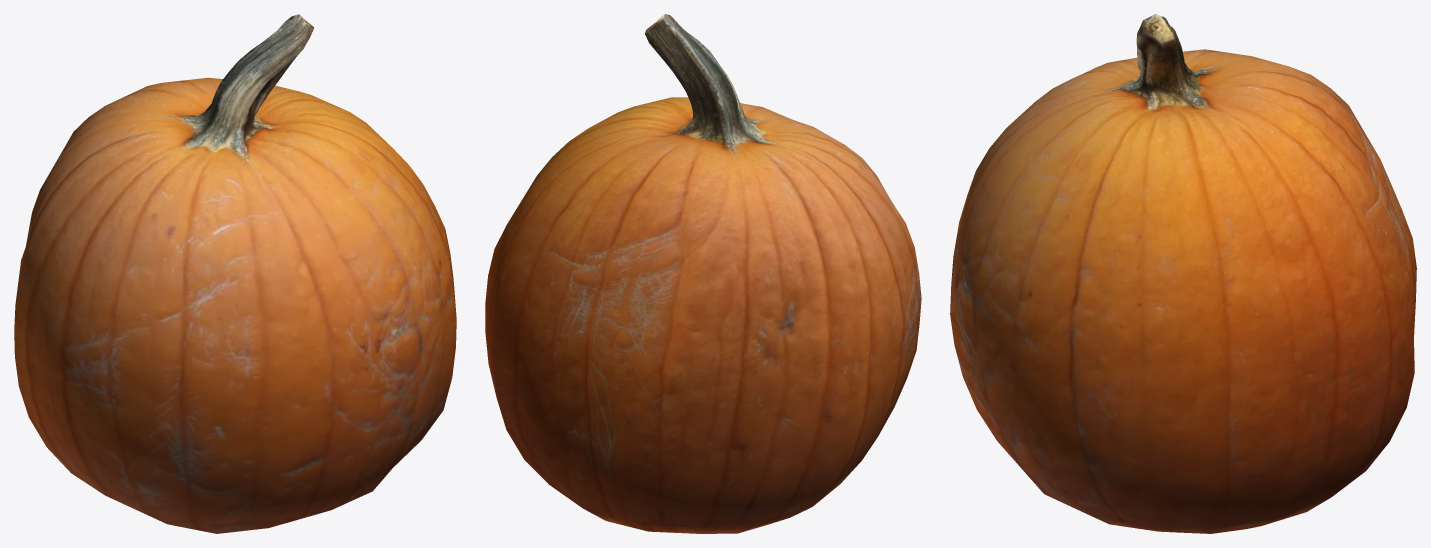
The model's file is realpumpkin.glb.
3 views of the same model, side by side, from view 1: azimuth 30°, elevation 25°; view 2: azimuth 150°, elevation 25°; view 3: azimuth 270°, elevation 25° (orthographic). The views are drawn at different scales.
Parts seen in each view (by area): view 1: Pumpkin; view 2: Pumpkin; view 3: Pumpkin.
Boxes of the visible parts, x1,y1,x2,y2 form: Pumpkin: (14, 14, 456, 533); Pumpkin: (485, 14, 921, 533); Pumpkin: (950, 14, 1416, 533).
Bounding box in the file's own units: 0.2117 × 0.25 × 0.2095.
1 material, 1 textured.
